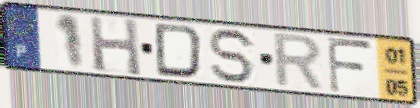1: (53, 13, 87, 71)
D: (153, 21, 206, 81)
F: (324, 35, 376, 96)
H: (87, 15, 144, 78)
R: (272, 31, 327, 93)
S: (207, 27, 258, 86)
